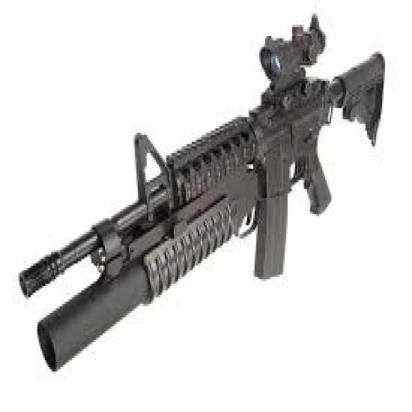Gun: (13, 11, 391, 369)
